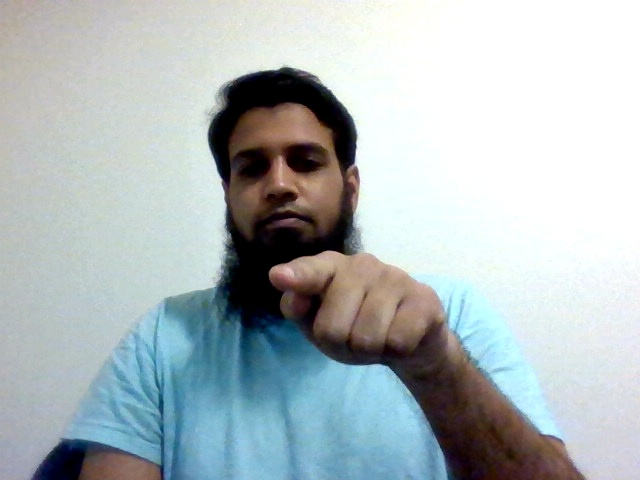you: (269, 245, 455, 377)
